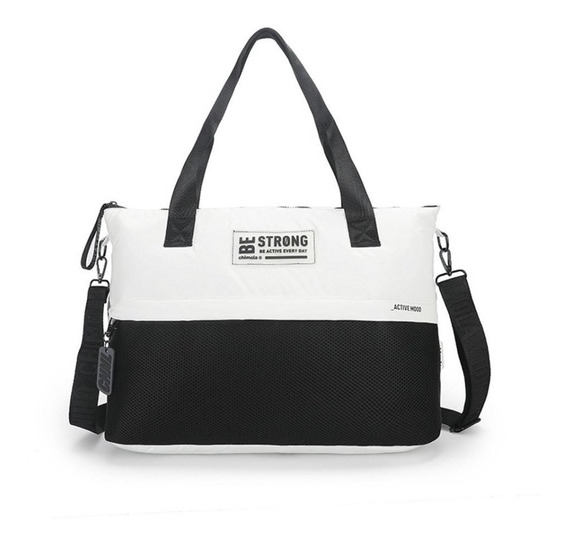cartera: (69, 26, 493, 459)
